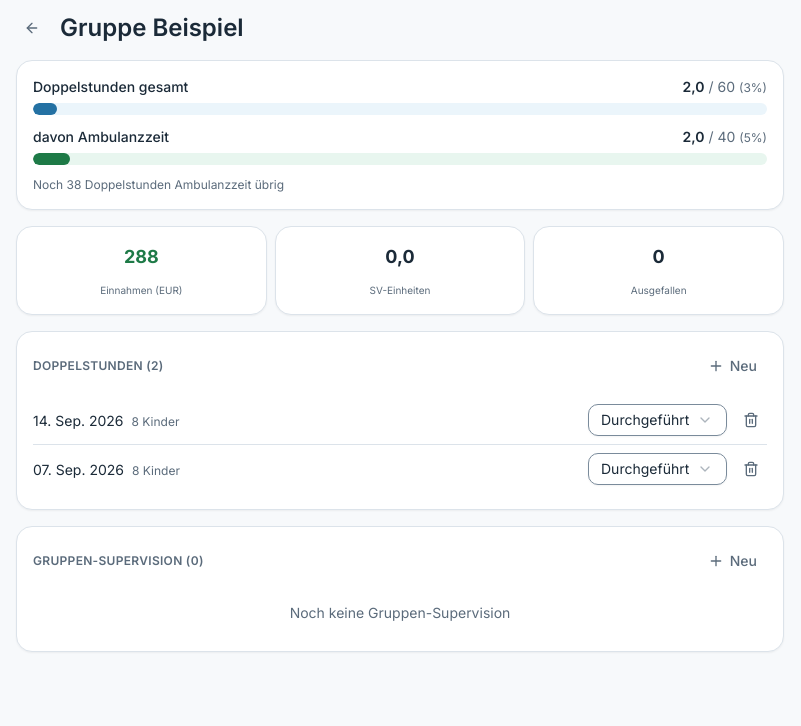
Test case: GroupDetailClient › zeigt einen abgelehnten Statuswechsel (Netz weg) in der Zeile der Doppelstunde
Step 1. Select "Ausgefallen" in the dropdown named "Status" in the row of "14. Sep. 2026" → {"x": 658, "y": 420}, box [588,404,727,436]
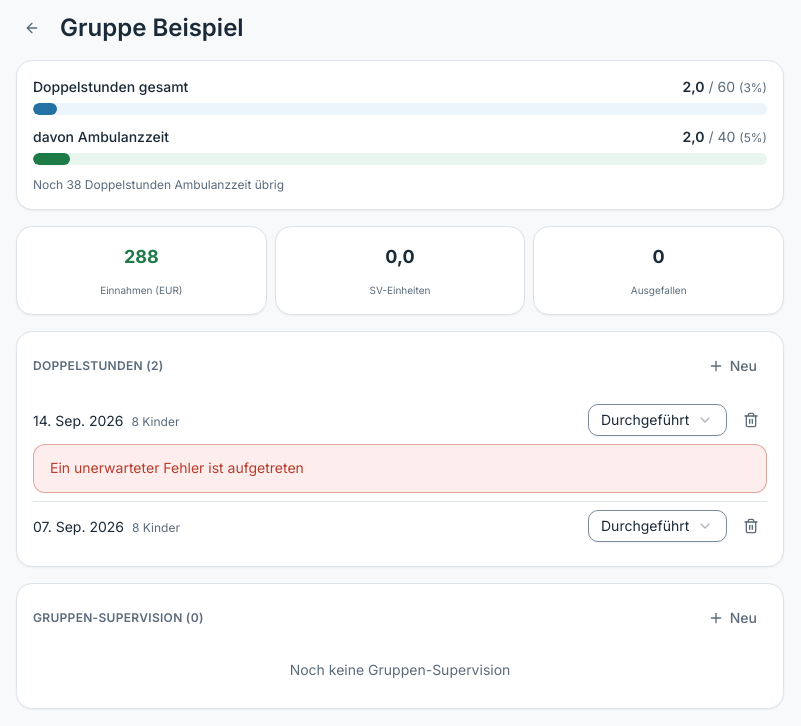
expect the message reads "Ein unerwarteter Fehler ist aufgetreten": met, box [50,459,304,476]
expect the message "Ein unerwarteter Fehler ist aufgetreten" is shown: met, box [33,444,767,493]
